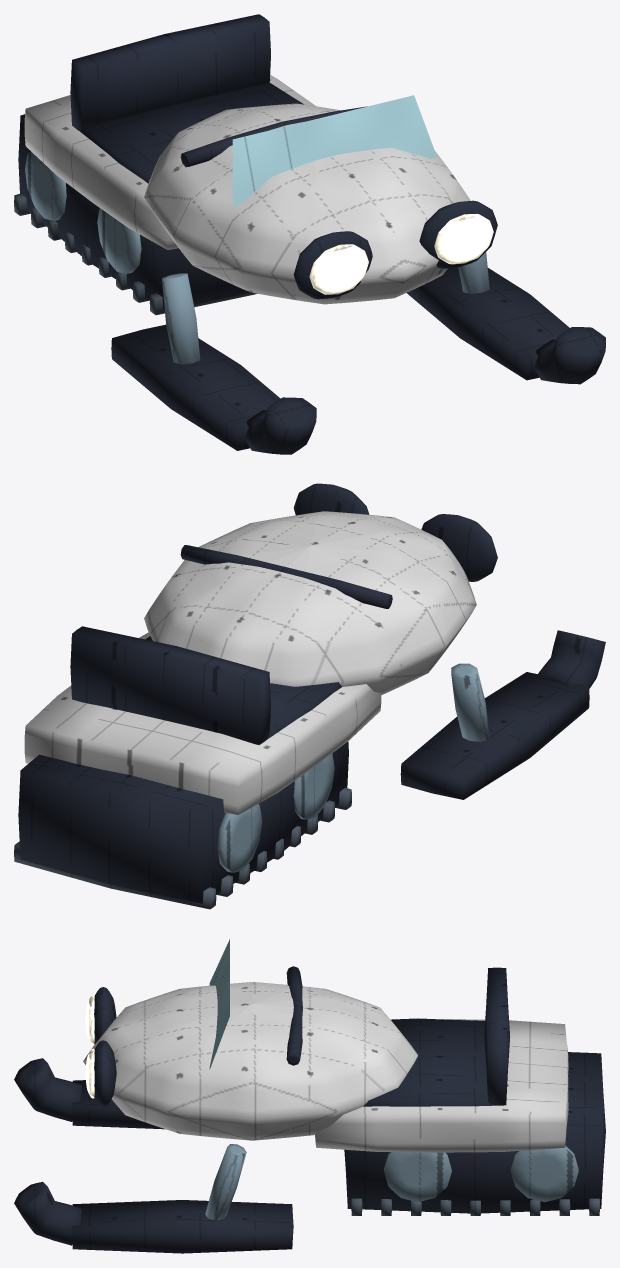
The model's file is snowmobile.glb.
The picture shows the model from 3 angles, top to bottom: view 1: azimuth 30°, elevation 25°; view 2: azimuth 150°, elevation 25°; view 3: azimuth 270°, elevation 25°; orthographic projection. The views are drawn at different scales.
Visible parts, largest first — view 1: body_paint, body_details, ski_R, track, ski_L, steer; view 2: body_paint, track, body_details, ski_R, steer; view 3: body_paint, track, body_details, ski_L, ski_R, steer.
Part boxes in pixels (left/top/right/bottom): body_paint: left=24, top=75, right=470, bottom=304; body_details: left=70, top=14, right=497, bottom=364; ski_R: left=111, top=324, right=316, bottom=454; track: left=14, top=114, right=257, bottom=315; ski_L: left=407, top=267, right=605, bottom=384; steer: left=180, top=106, right=367, bottom=167; body_paint: left=24, top=511, right=476, bottom=814; track: left=14, top=741, right=351, bottom=909; body_details: left=70, top=483, right=497, bottom=744; ski_R: left=400, top=630, right=605, bottom=799; steer: left=180, top=545, right=392, bottom=608; body_paint: left=83, top=982, right=568, bottom=1152; track: left=344, top=1052, right=605, bottom=1215; body_details: left=85, top=939, right=510, bottom=1220; ski_L: left=14, top=1181, right=293, bottom=1253; ski_R: left=14, top=1058, right=164, bottom=1129; steer: left=286, top=966, right=302, bottom=1065.
Bounding box in the file's own units: 1.6 × 0.9901 × 2.6.
3 materials, 3 textured.
